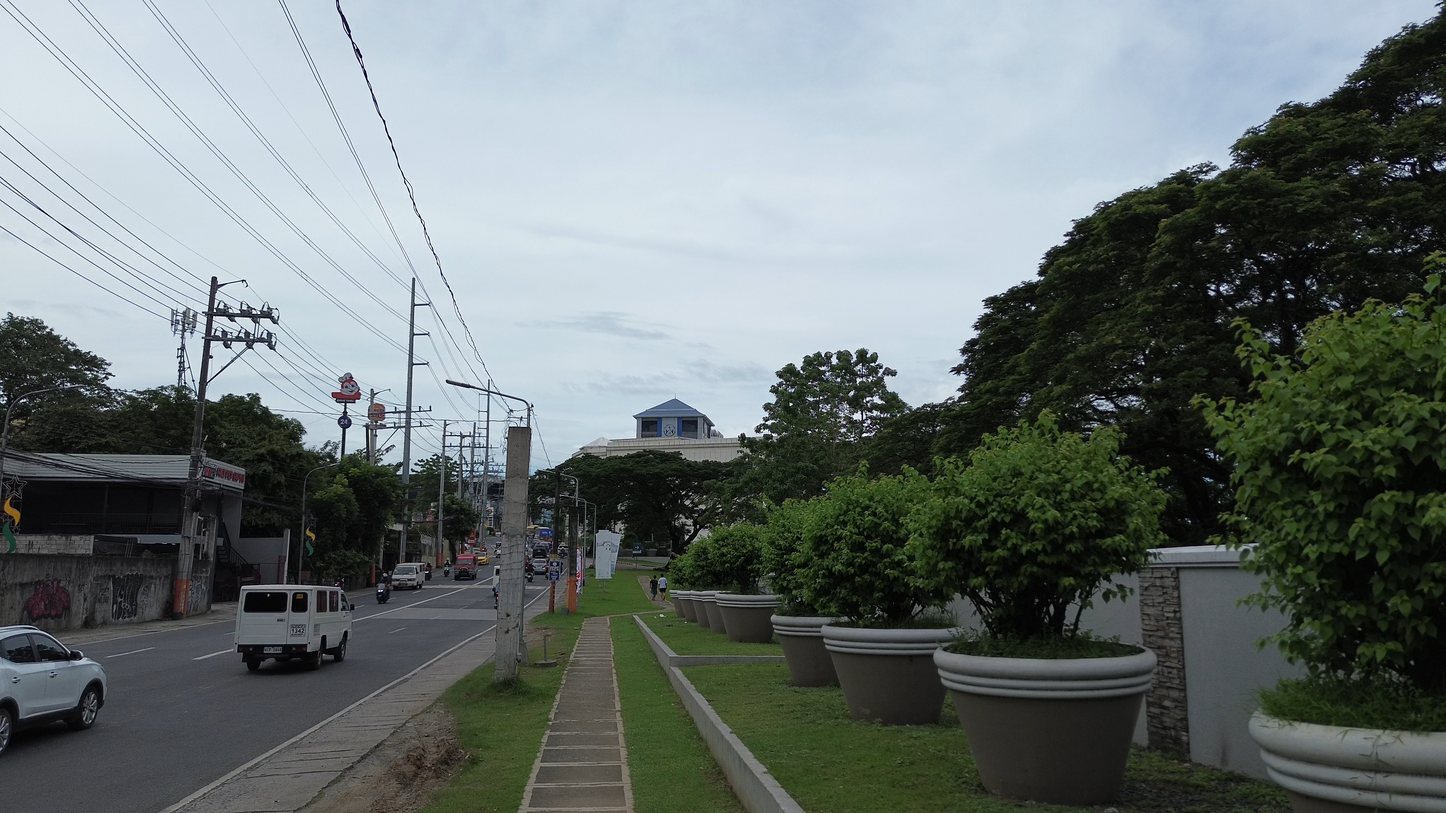vehicle: (0, 626, 107, 754), (236, 585, 353, 671), (392, 563, 424, 589), (453, 554, 477, 580), (375, 581, 390, 604), (525, 560, 535, 582)
